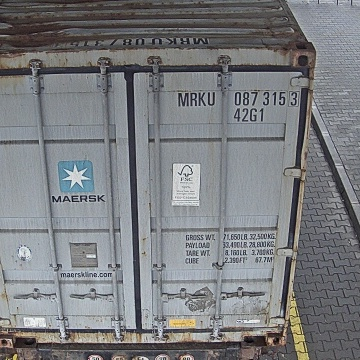serial_id: (177, 91, 298, 106)
